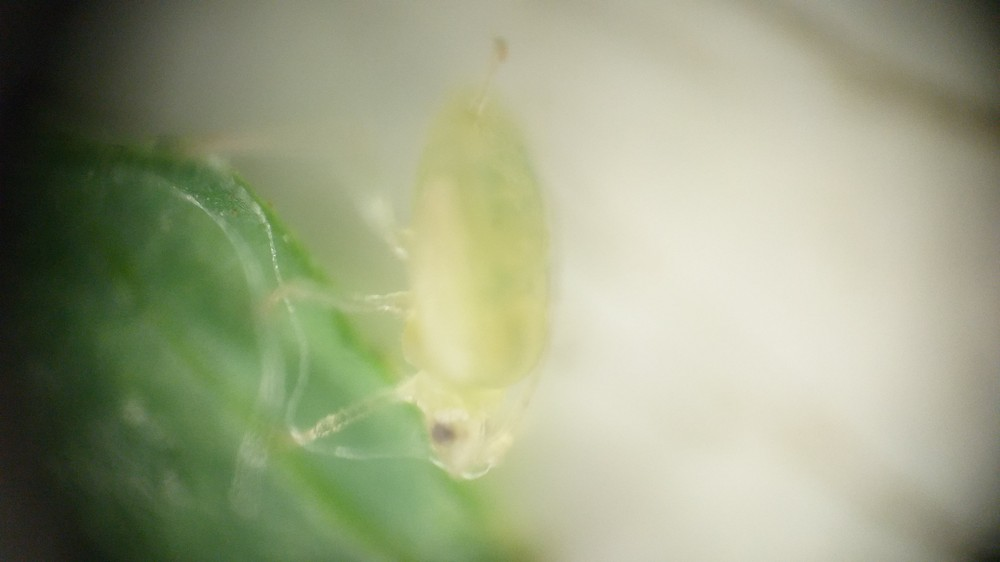Pulgon: (221, 31, 600, 539)
